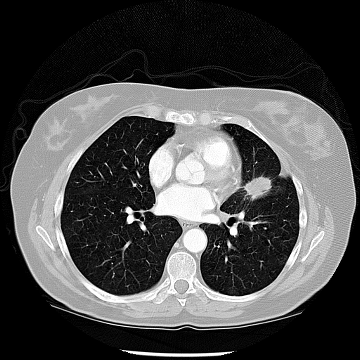nodule: (246, 175, 268, 197)
